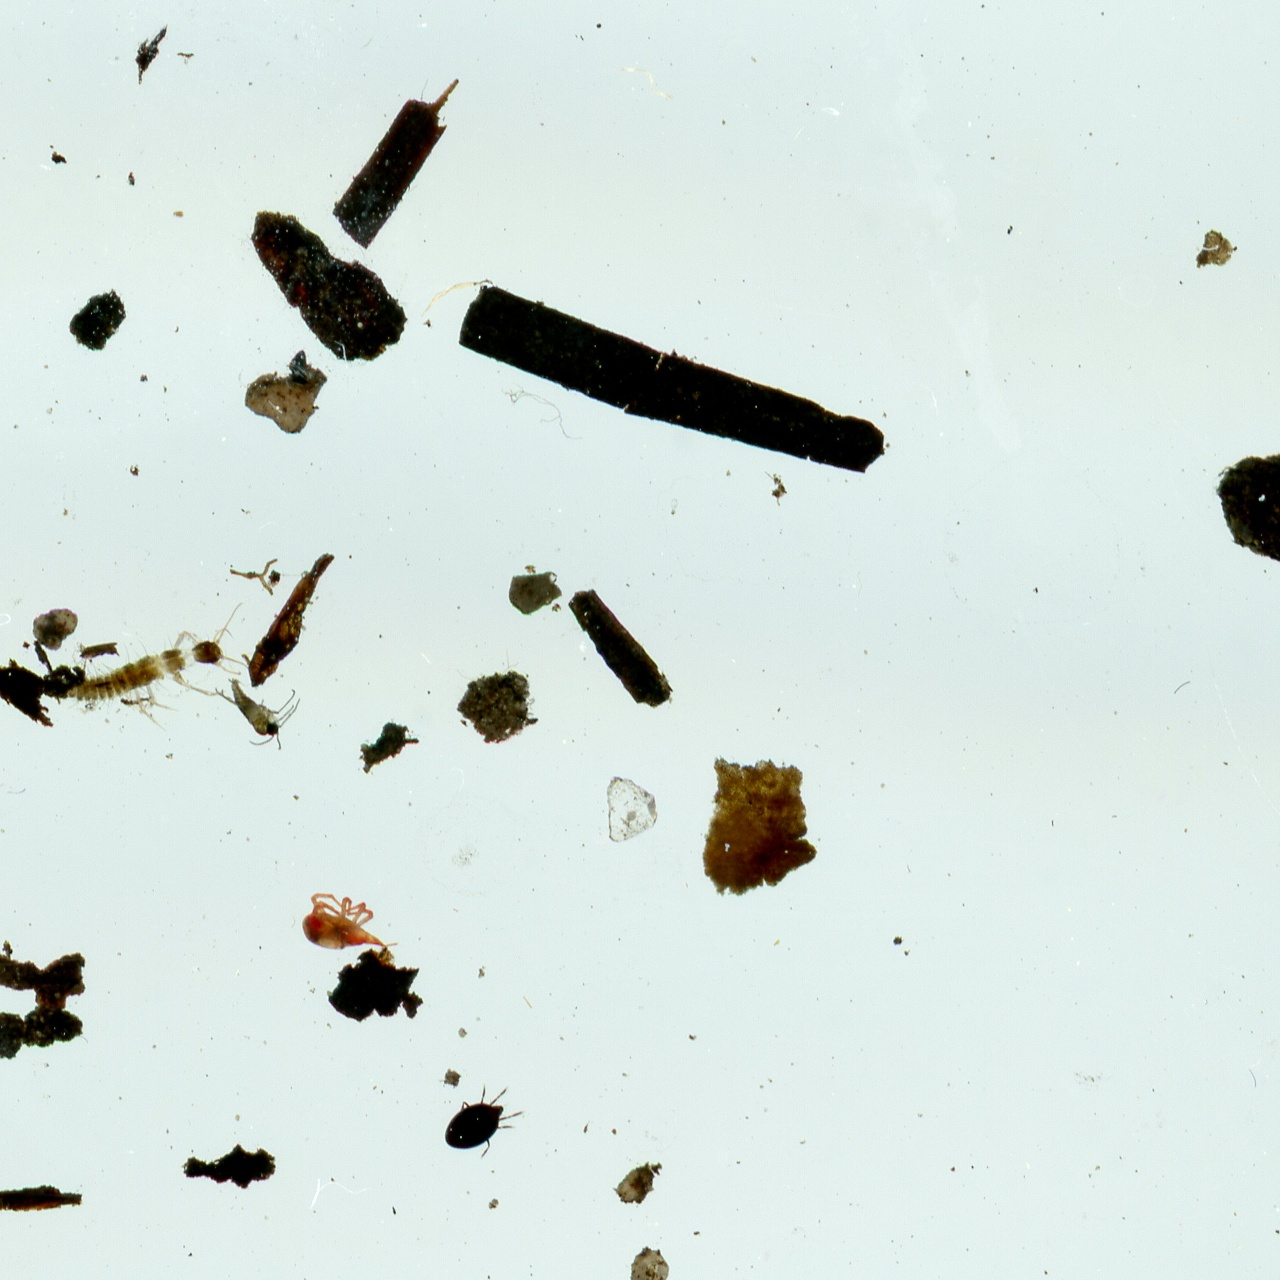arthropod: (14, 622, 241, 703), (300, 878, 396, 951), (220, 672, 311, 741), (444, 1083, 522, 1157)
